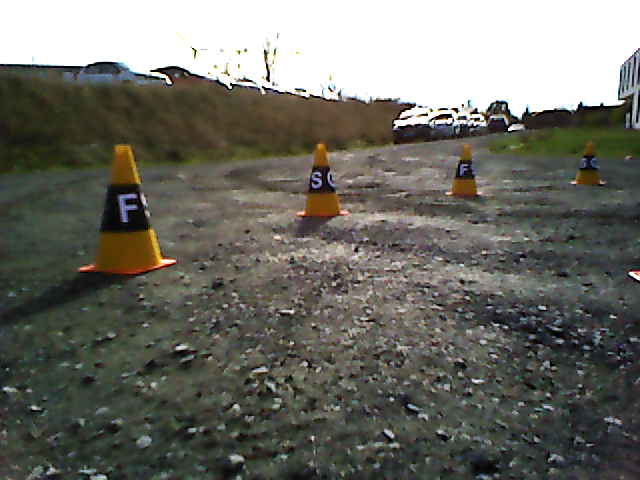yellowcone: (96, 146, 162, 268), (307, 144, 340, 214), (453, 145, 476, 194), (575, 142, 601, 183)
